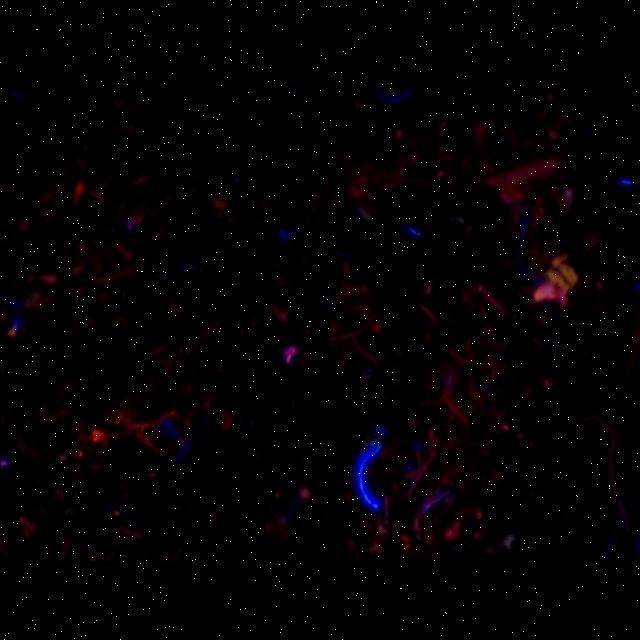Fragment: (532, 252, 576, 306)
